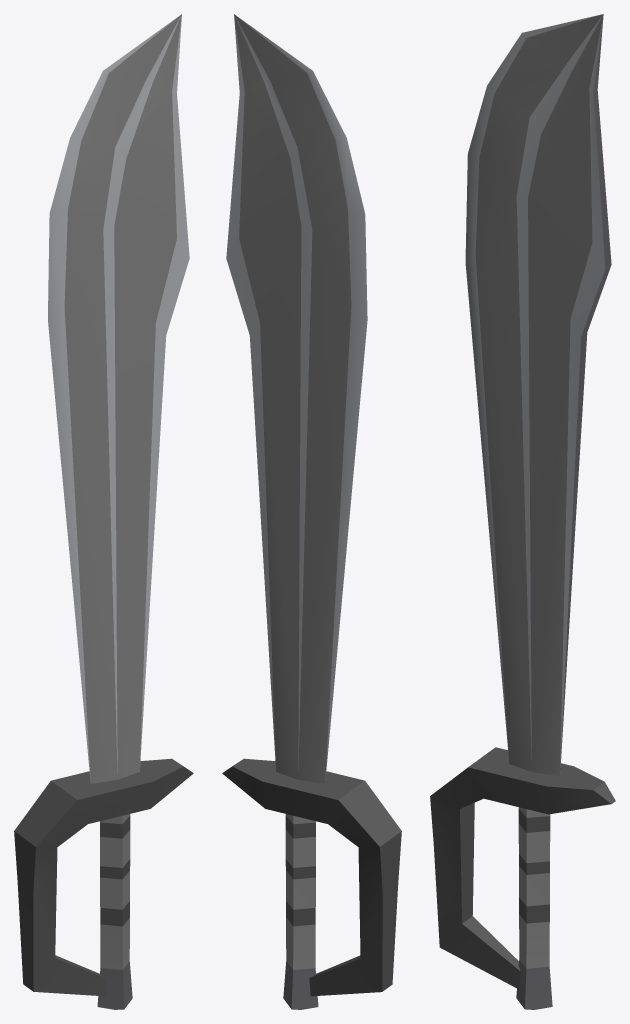
File: Sword_3.fbx
3 renders of one model, left to right at view 1: azimuth 30°, elevation 25°; view 2: azimuth 150°, elevation 25°; view 3: azimuth 330°, elevation 25°, orthographic. The views are drawn at different scales.
Visible parts, largest first — view 1: polySurface448; view 2: polySurface448; view 3: polySurface448.
Boxes of the visible parts, bbox=[...] form: polySurface448: bbox=[14, 14, 193, 1009]; polySurface448: bbox=[222, 14, 401, 1009]; polySurface448: bbox=[430, 14, 615, 1009].
Size of the model in its own units: 54.44 by 305 by 15.04.
